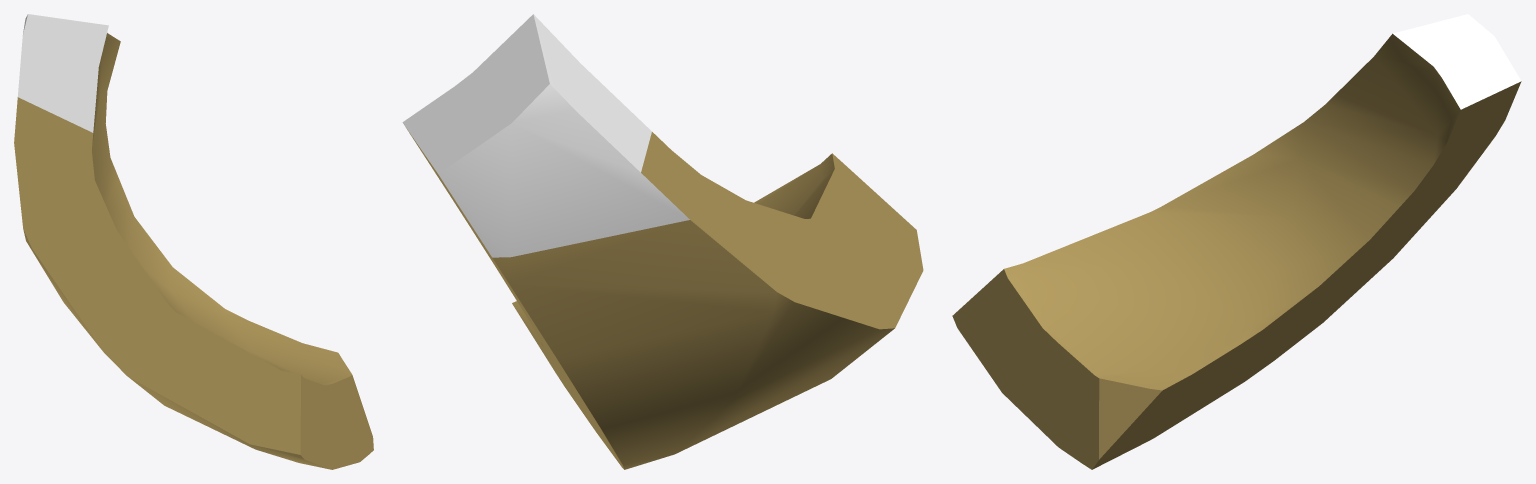
Rendered from broken_pot_cell.039.fbx.
3 renders of one model, left to right at view 1: azimuth 30°, elevation 25°; view 2: azimuth 150°, elevation 25°; view 3: azimuth 270°, elevation 25°, orthographic. The views are drawn at different scales.
Visible parts, largest first — view 1: broken_pot_cell.039; view 2: broken_pot_cell.039; view 3: broken_pot_cell.039.
Boxes of the visible parts, left/top/right/bottom form: broken_pot_cell.039: left=14, top=14, right=373, bottom=469; broken_pot_cell.039: left=402, top=14, right=923, bottom=469; broken_pot_cell.039: left=952, top=14, right=1521, bottom=469.
Size of the model in its own units: 0.6812 by 1.32 by 0.951.
